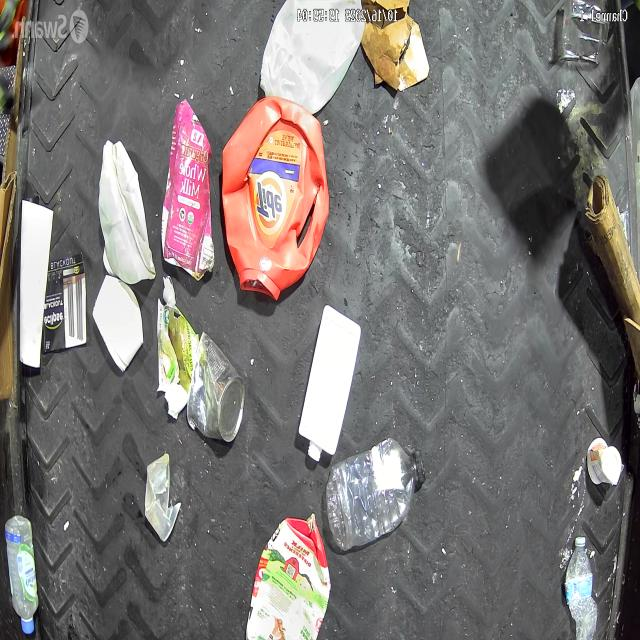can: (183, 332, 244, 452)
milk_jug: (253, 0, 364, 115), (96, 138, 156, 287)
non_white_jug: (222, 86, 332, 303), (245, 513, 332, 640), (161, 99, 215, 282)
plastic_bottle: (316, 435, 424, 552), (0, 512, 42, 640), (563, 533, 601, 640)
